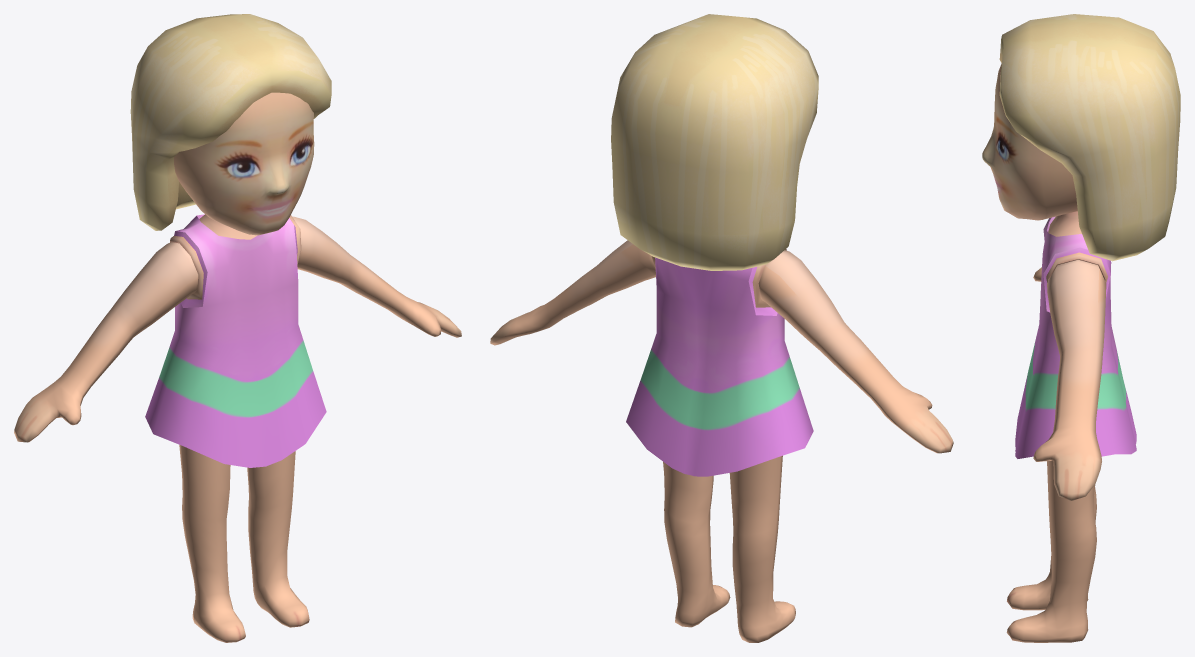
File: doll.fbx
3 views of the same model, side by side, from view 1: azimuth 30°, elevation 25°; view 2: azimuth 150°, elevation 25°; view 3: azimuth 270°, elevation 25° (orthographic). The views are drawn at different scales.
Parts seen in each view (by area): view 1: head, dress, armR, legR, legL, armL.001; view 2: head, dress, armR, legR, legL, armL.001; view 3: head, armL.001, dress, legL, legR.
Part boxes in pixels (left/top/right/bottom): head: left=130, top=14, right=331, bottom=235; dress: left=145, top=214, right=326, bottom=467; armR: left=14, top=242, right=198, bottom=442; legR: left=179, top=445, right=245, bottom=642; legL: left=247, top=451, right=309, bottom=627; armL.001: left=292, top=216, right=461, bottom=337; head: left=611, top=14, right=818, bottom=270; dress: left=626, top=249, right=813, bottom=476; armR: left=758, top=250, right=953, bottom=453; legR: left=729, top=455, right=795, bottom=642; legL: left=663, top=462, right=730, bottom=627; armL.001: left=490, top=240, right=655, bottom=345; head: left=982, top=14, right=1180, bottom=261; armL.001: left=1033, top=259, right=1106, bottom=500; dress: left=1015, top=211, right=1136, bottom=458; legL: left=1006, top=461, right=1096, bottom=642; legR: left=1007, top=487, right=1096, bottom=610.
Size of the model in its own units: 149 by 188 by 56.91.
1 material, 1 textured.
